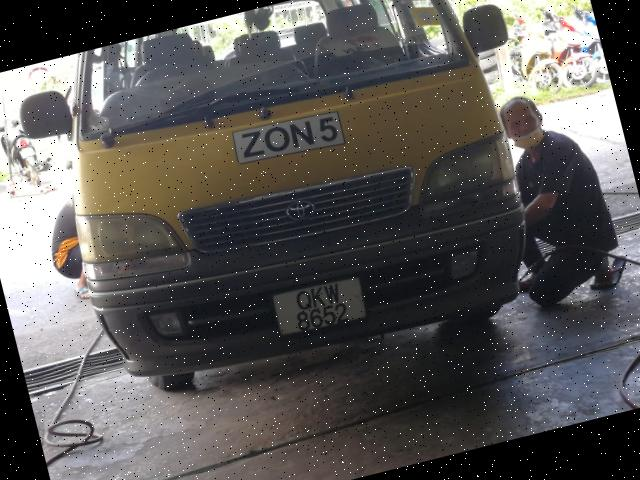License_Plate: (272, 275, 368, 340)
van: (1, 1, 583, 434)
